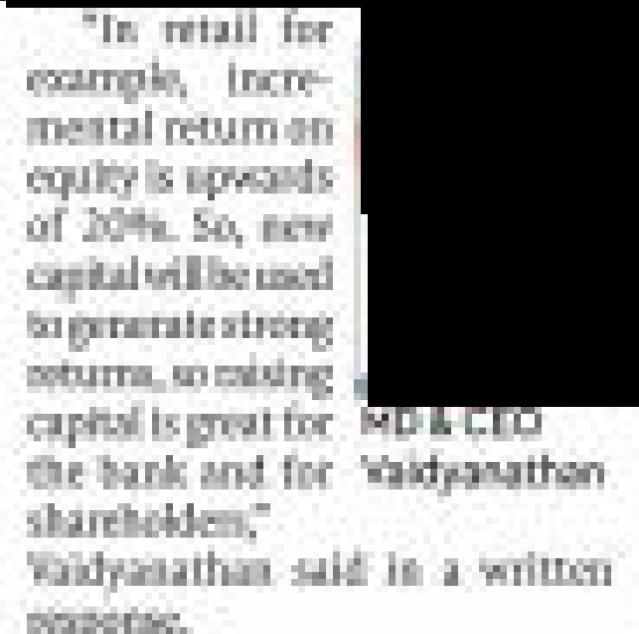paper: (1, 1, 639, 634)
